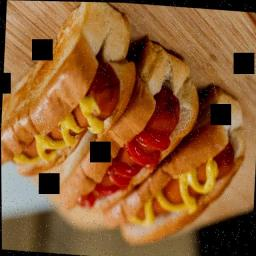hotdog: (42, 28, 209, 219), (0, 0, 130, 191), (100, 84, 248, 251)
